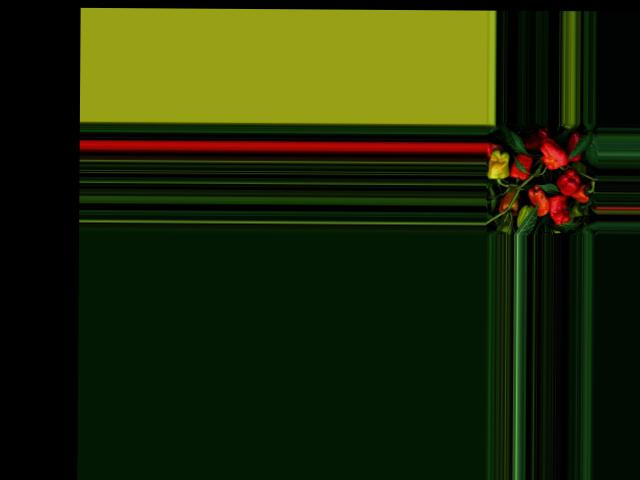bell_pepper: (572, 188, 592, 203)
